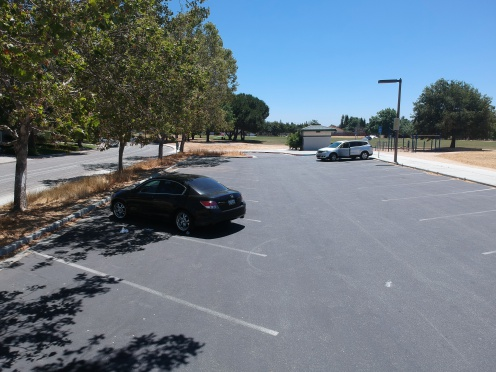plastic bag: (119, 225, 132, 234)
